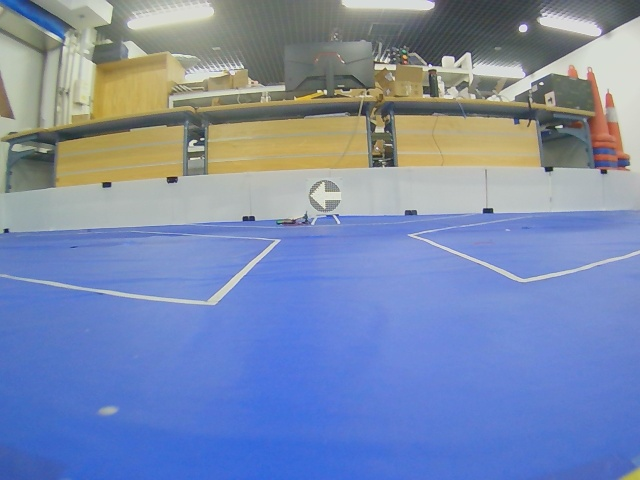left_yellow: (310, 180, 342, 212)
